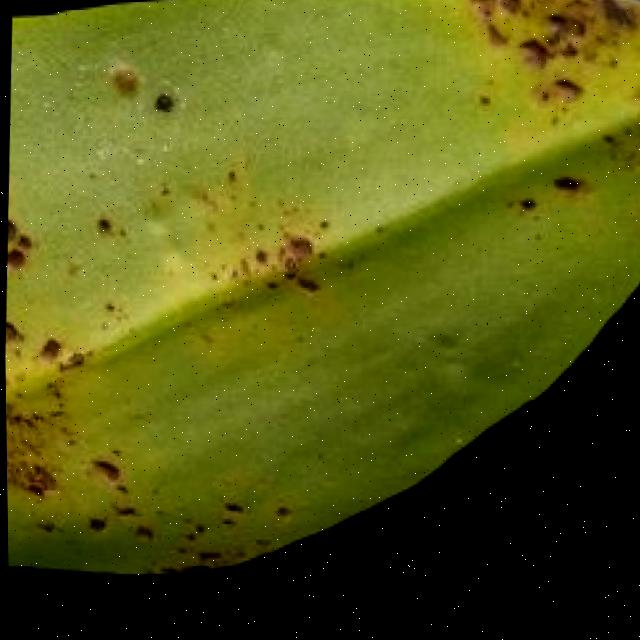mite: (4, 57, 330, 568), (82, 493, 296, 555), (108, 68, 185, 124), (150, 92, 182, 124), (269, 502, 298, 528), (37, 338, 63, 364), (4, 319, 25, 348), (5, 248, 29, 272), (155, 95, 177, 118), (132, 527, 156, 546), (5, 220, 22, 246), (222, 502, 246, 520), (85, 517, 109, 535), (95, 220, 116, 239), (517, 202, 539, 220), (274, 507, 296, 523)
spots: (4, 0, 640, 583)
